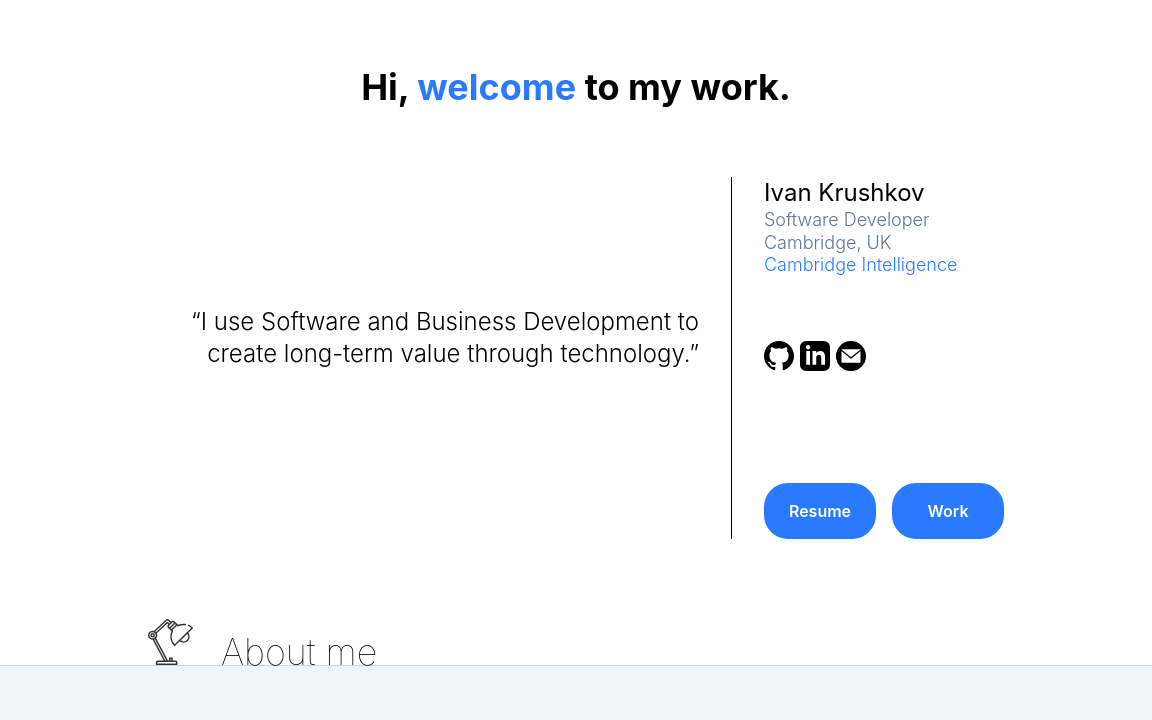
Scenario: Easter eggs › shows easter egg on click
Click the picture named "Dark, light mode switch": point(170, 642) [148, 618, 193, 665]
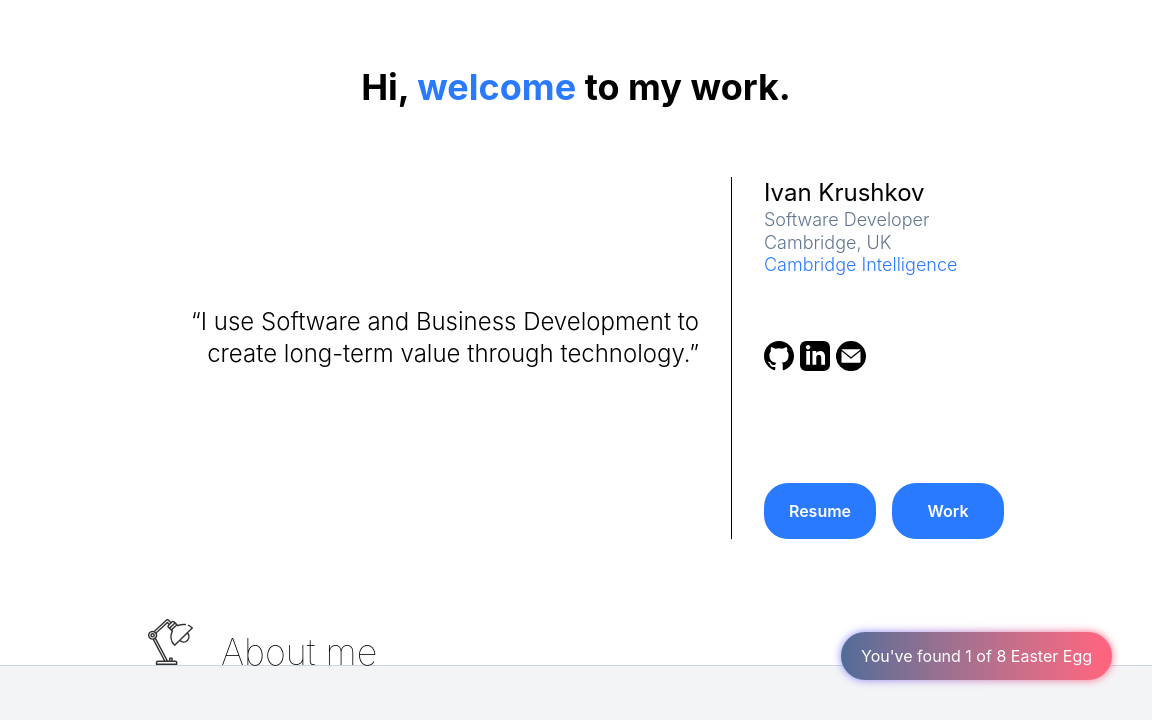
Now the text "You've found 1 of 8 Easter Egg" is shown, box [841, 632, 1112, 680]
